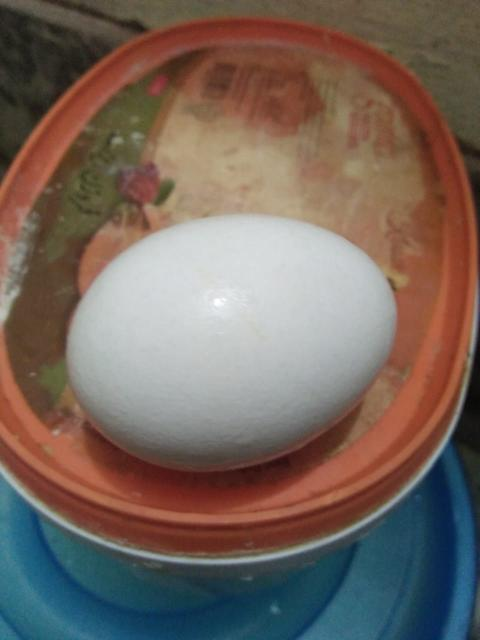Sano: (64, 211, 398, 472)
